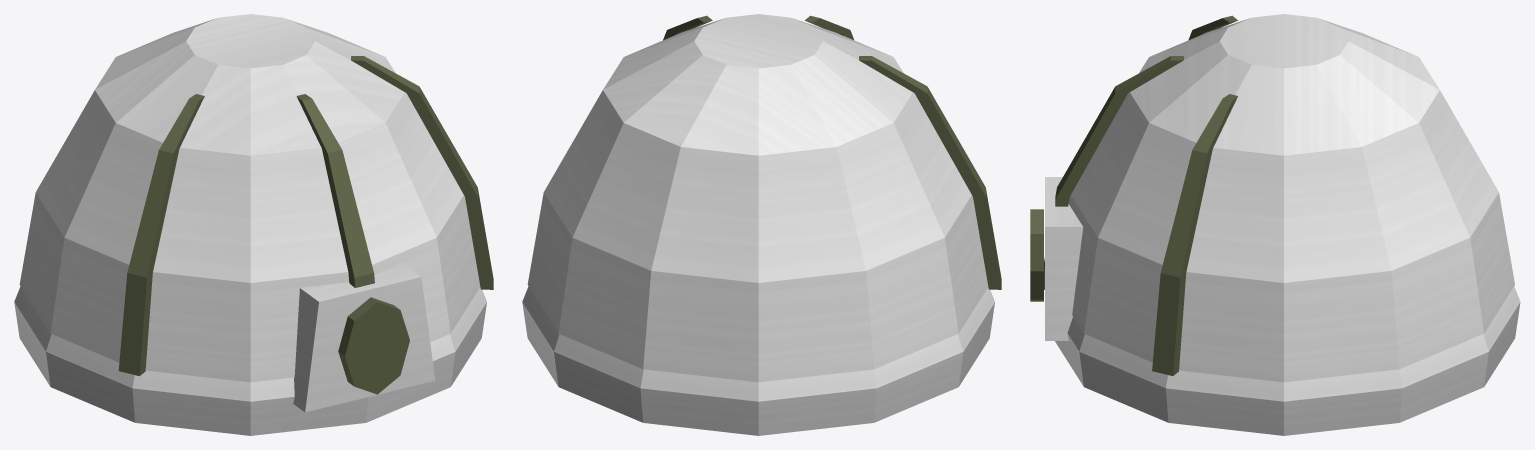
Rendered from mech_low_shield.obj.
3 renders of one model, left to right at view 1: azimuth 30°, elevation 25°; view 2: azimuth 150°, elevation 25°; view 3: azimuth 270°, elevation 25°, orthographic.
Parts seen in each view (by area): view 1: mech_low_shield; view 2: mech_low_shield; view 3: mech_low_shield.
Part boxes in pixels (bbox=[...]): mech_low_shield: bbox=[14, 14, 493, 435]; mech_low_shield: bbox=[522, 14, 1001, 435]; mech_low_shield: bbox=[1030, 14, 1520, 435].
Bounding box in the file's own units: 0.88 × 0.61 × 0.912.
